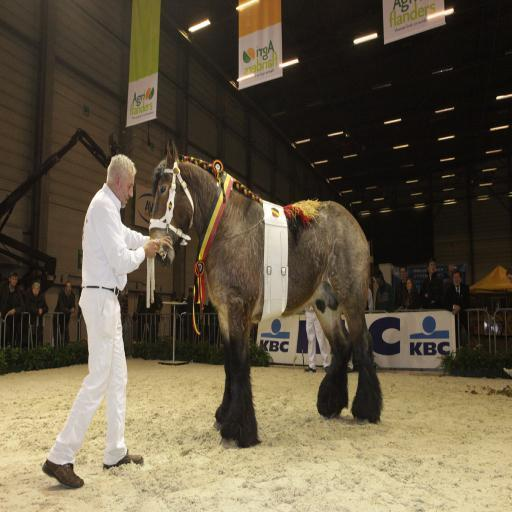horse: (146, 138, 382, 452)
